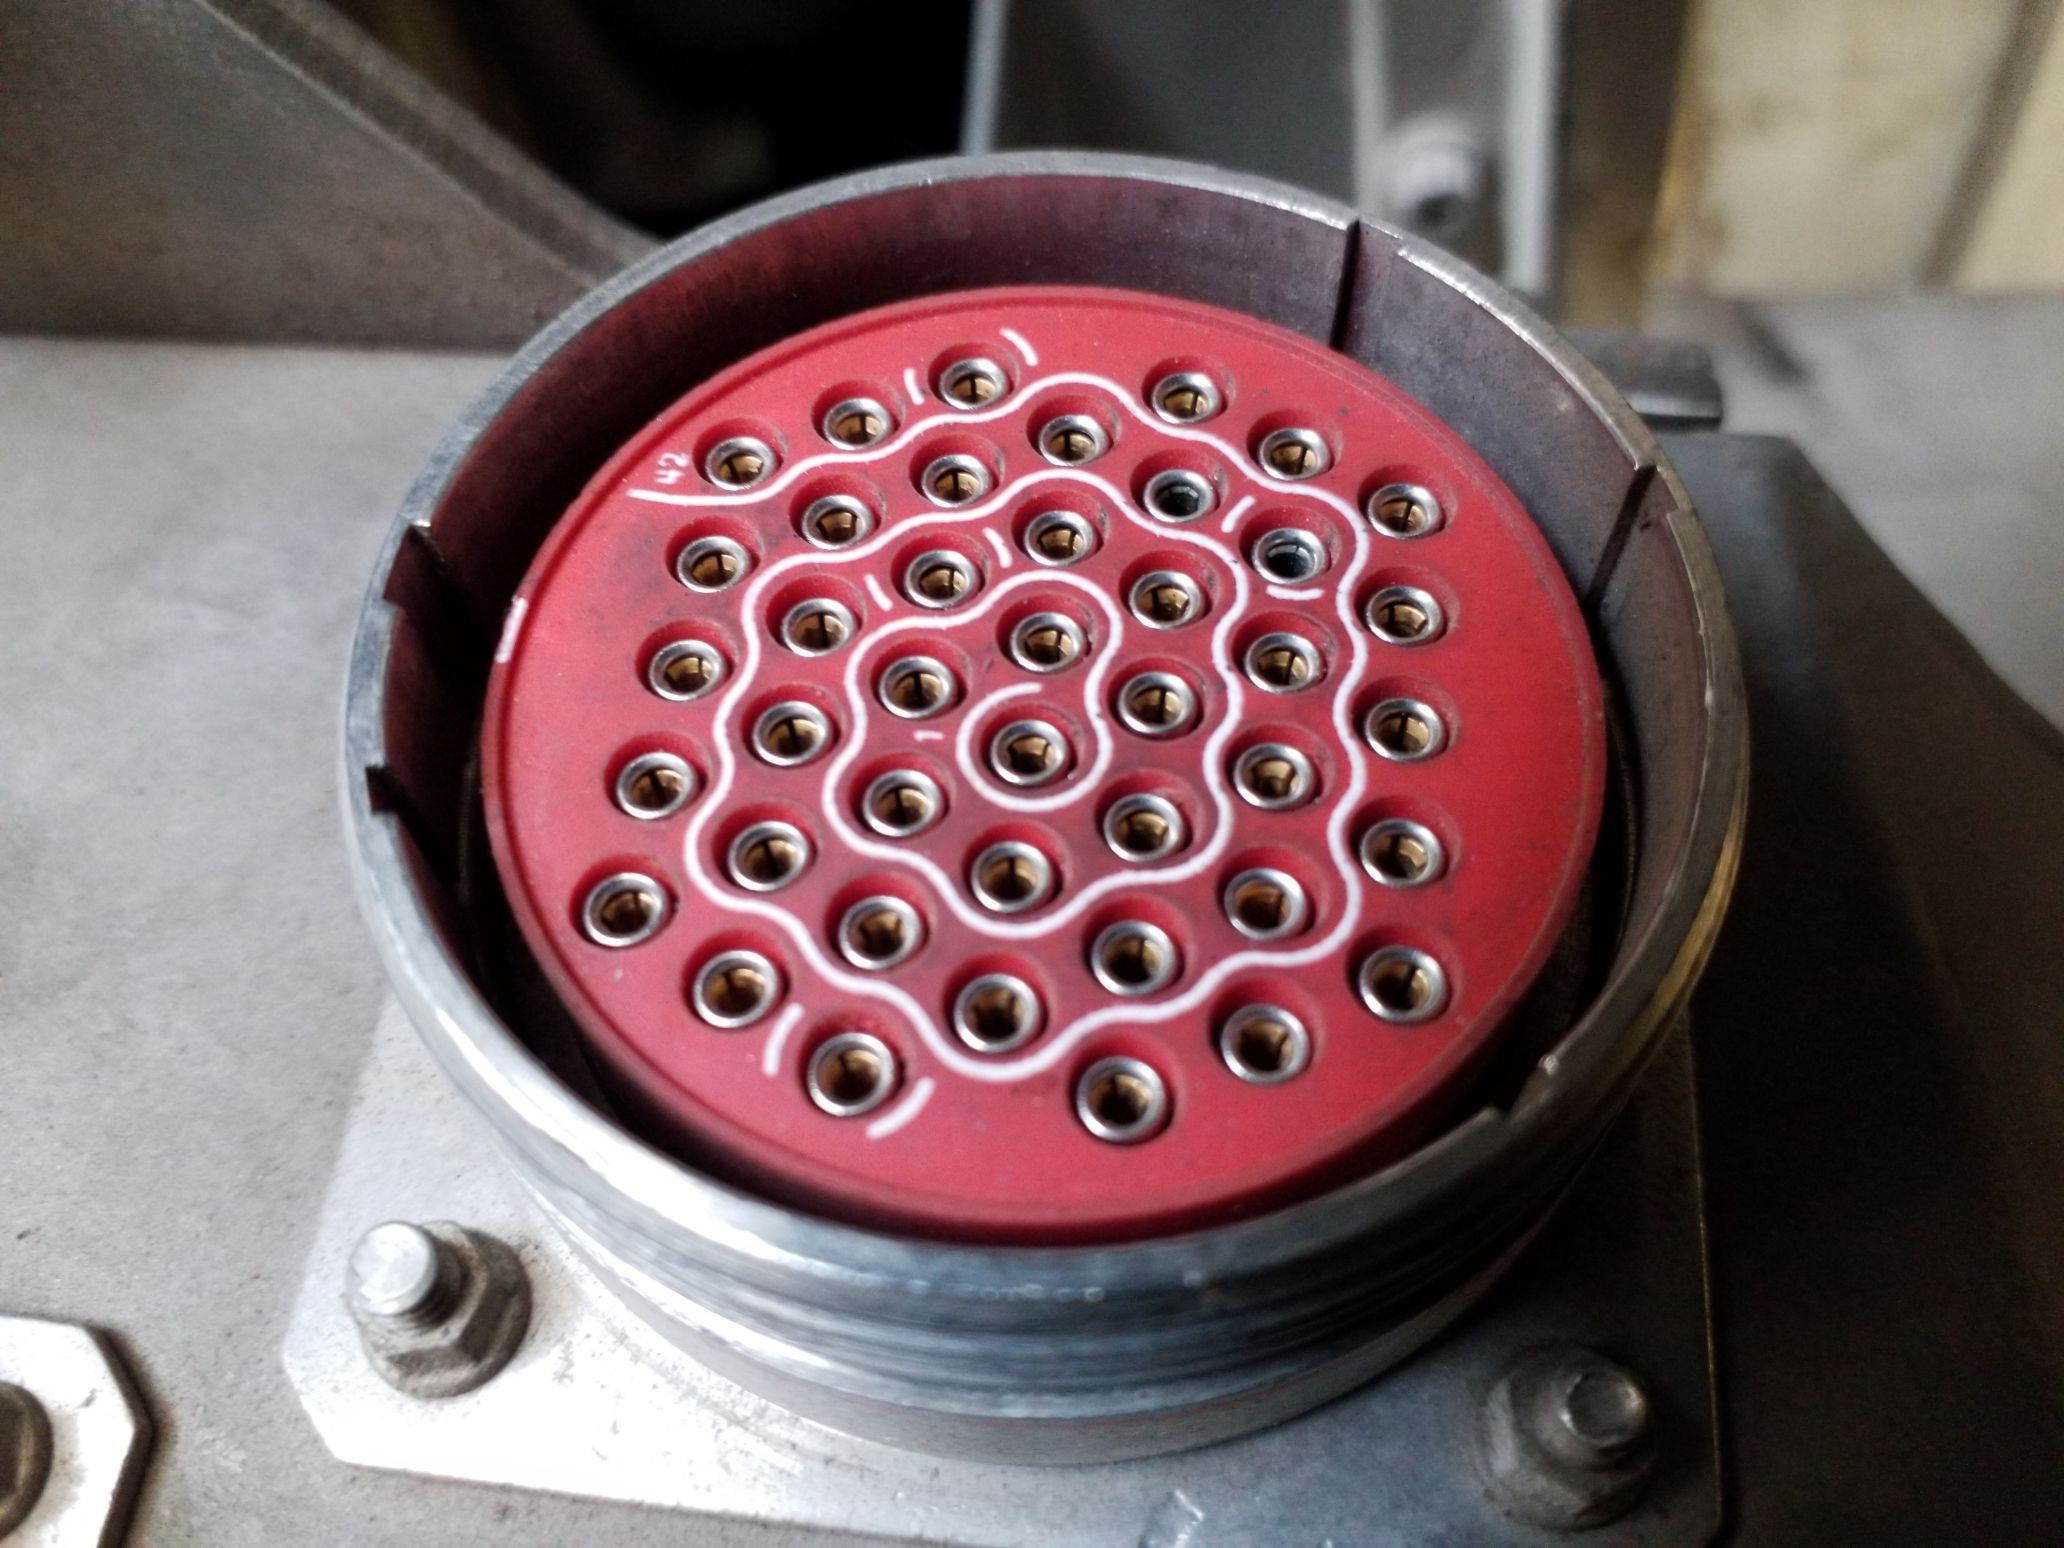inletround: (340, 138, 1784, 1341)
